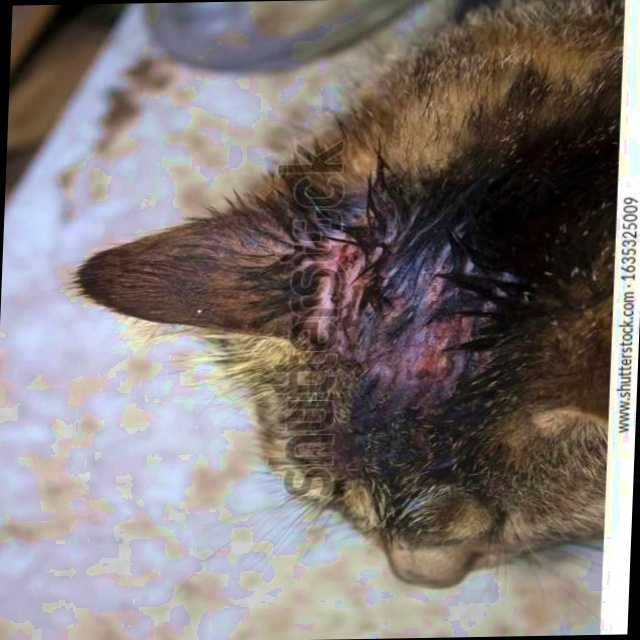ringworm: (299, 213, 482, 396)
